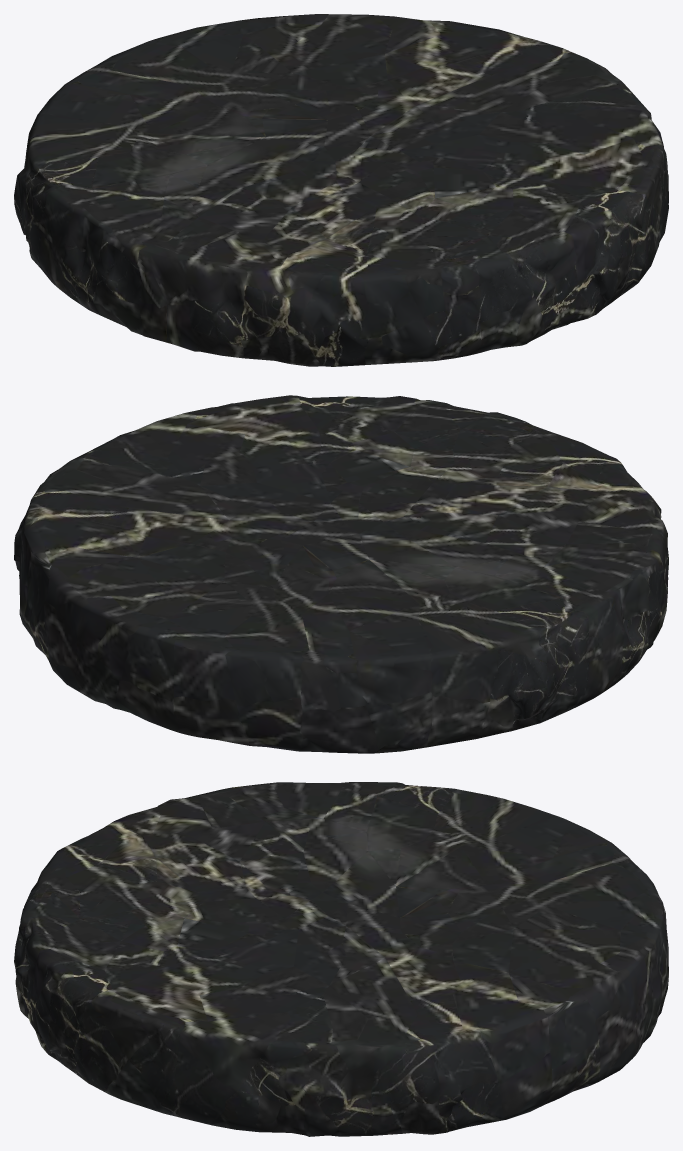
The model's file is slab-lite.glb.
3 renders of one model, top to bottom at view 1: azimuth 30°, elevation 25°; view 2: azimuth 150°, elevation 25°; view 3: azimuth 270°, elevation 25°, orthographic.
Size of the model in its own units: 1.9 by 0.2968 by 1.89.
Materials: 1 (1 with a texture image).
